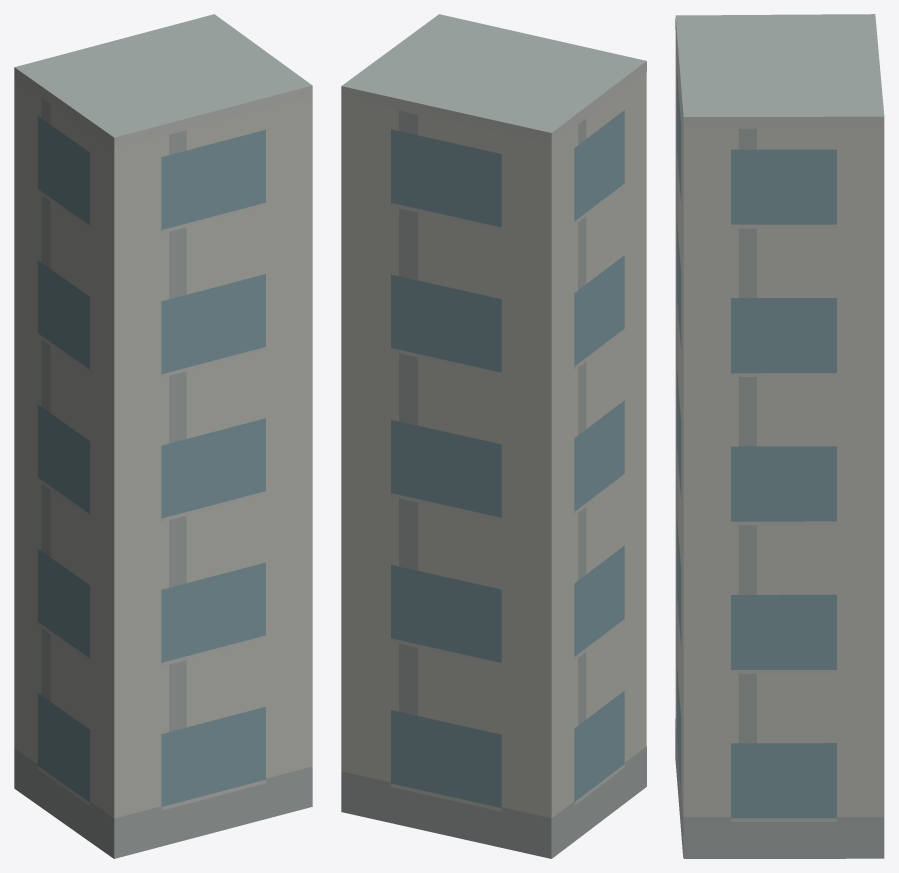
Rendered from survey-upis-32634523.glb.
3 renders of one model, left to right at view 1: azimuth 30°, elevation 25°; view 2: azimuth 150°, elevation 25°; view 3: azimuth 270°, elevation 25°, orthographic. The views are drawn at different scales.
Parts seen in each view (by area): view 1: survey-upis-32634523.tmp; view 2: survey-upis-32634523.tmp; view 3: survey-upis-32634523.tmp.
Boxes of the visible parts, <box> form: survey-upis-32634523.tmp: <box>14,14,312,858</box>; survey-upis-32634523.tmp: <box>341,14,646,858</box>; survey-upis-32634523.tmp: <box>675,14,884,858</box>.
Size of the model in its own units: 4.55 by 15.25 by 3.9.
